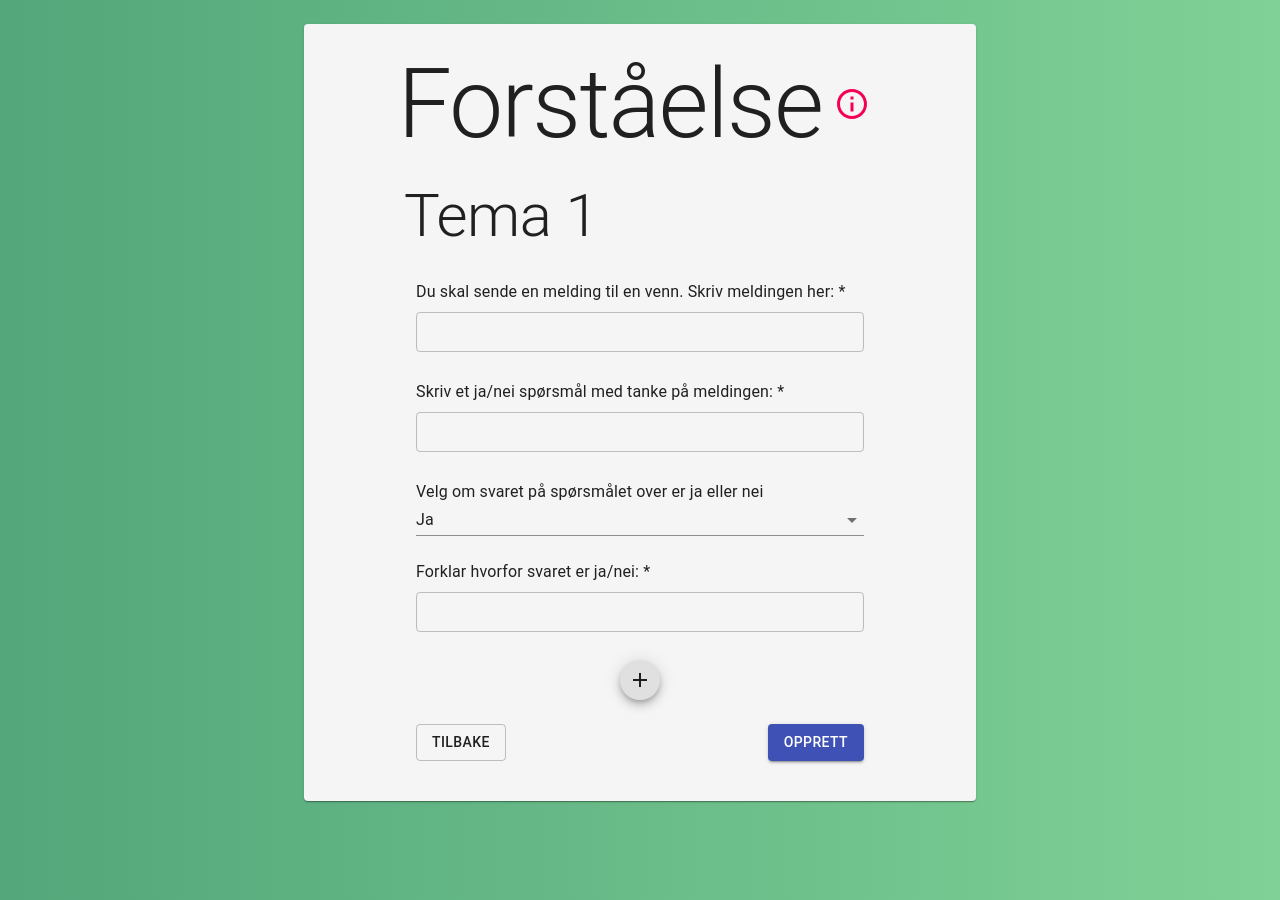
Test: CreateForstaelse test › infoModal forstaelse
The width and height of the screenshot is (1280, 900).
Step 1. Click the button with test id "infoButton" → (852, 104), box [822,48,882,160]
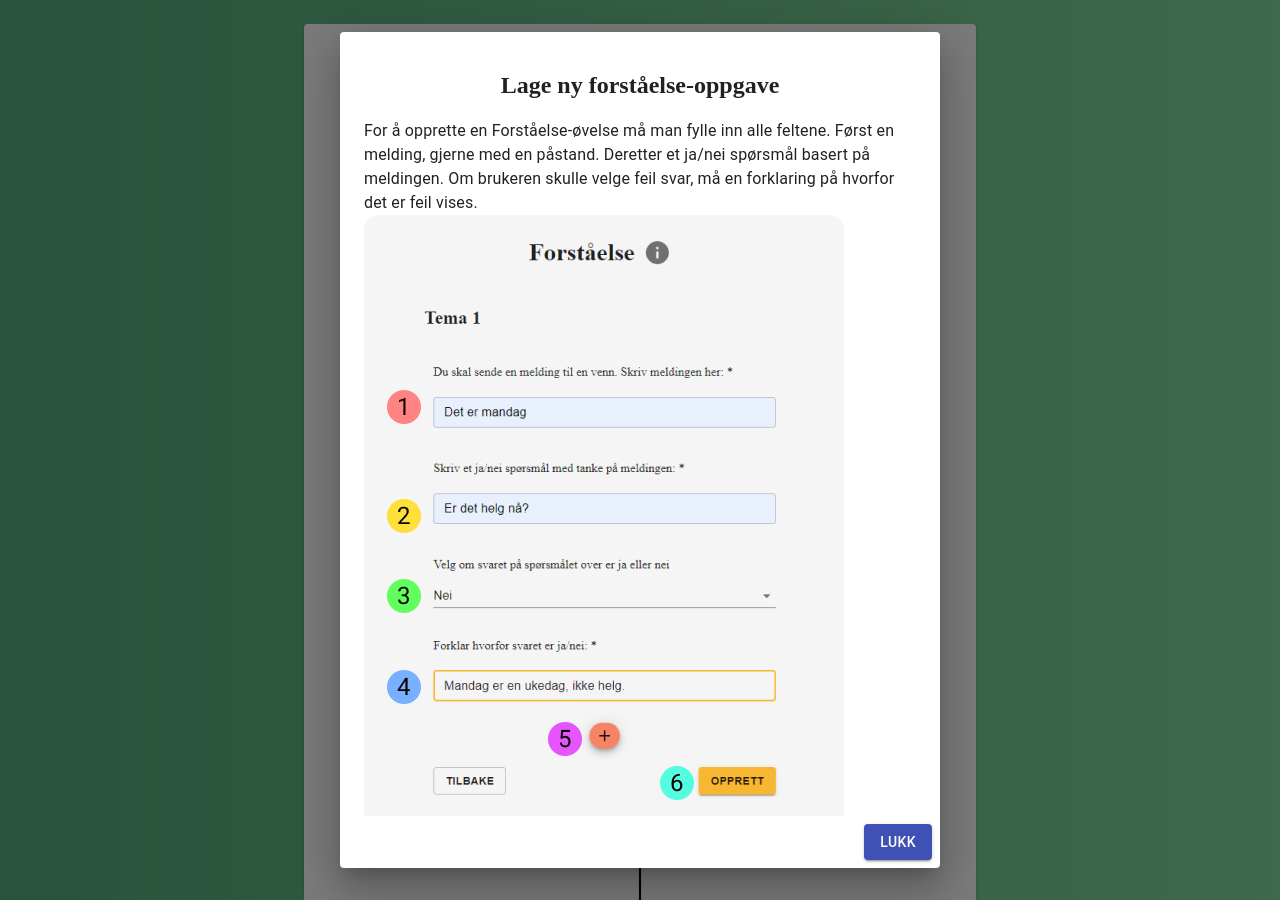
Now the heading "Lage ny forståelse-oppgave" is shown, box [501,72,779,98]
